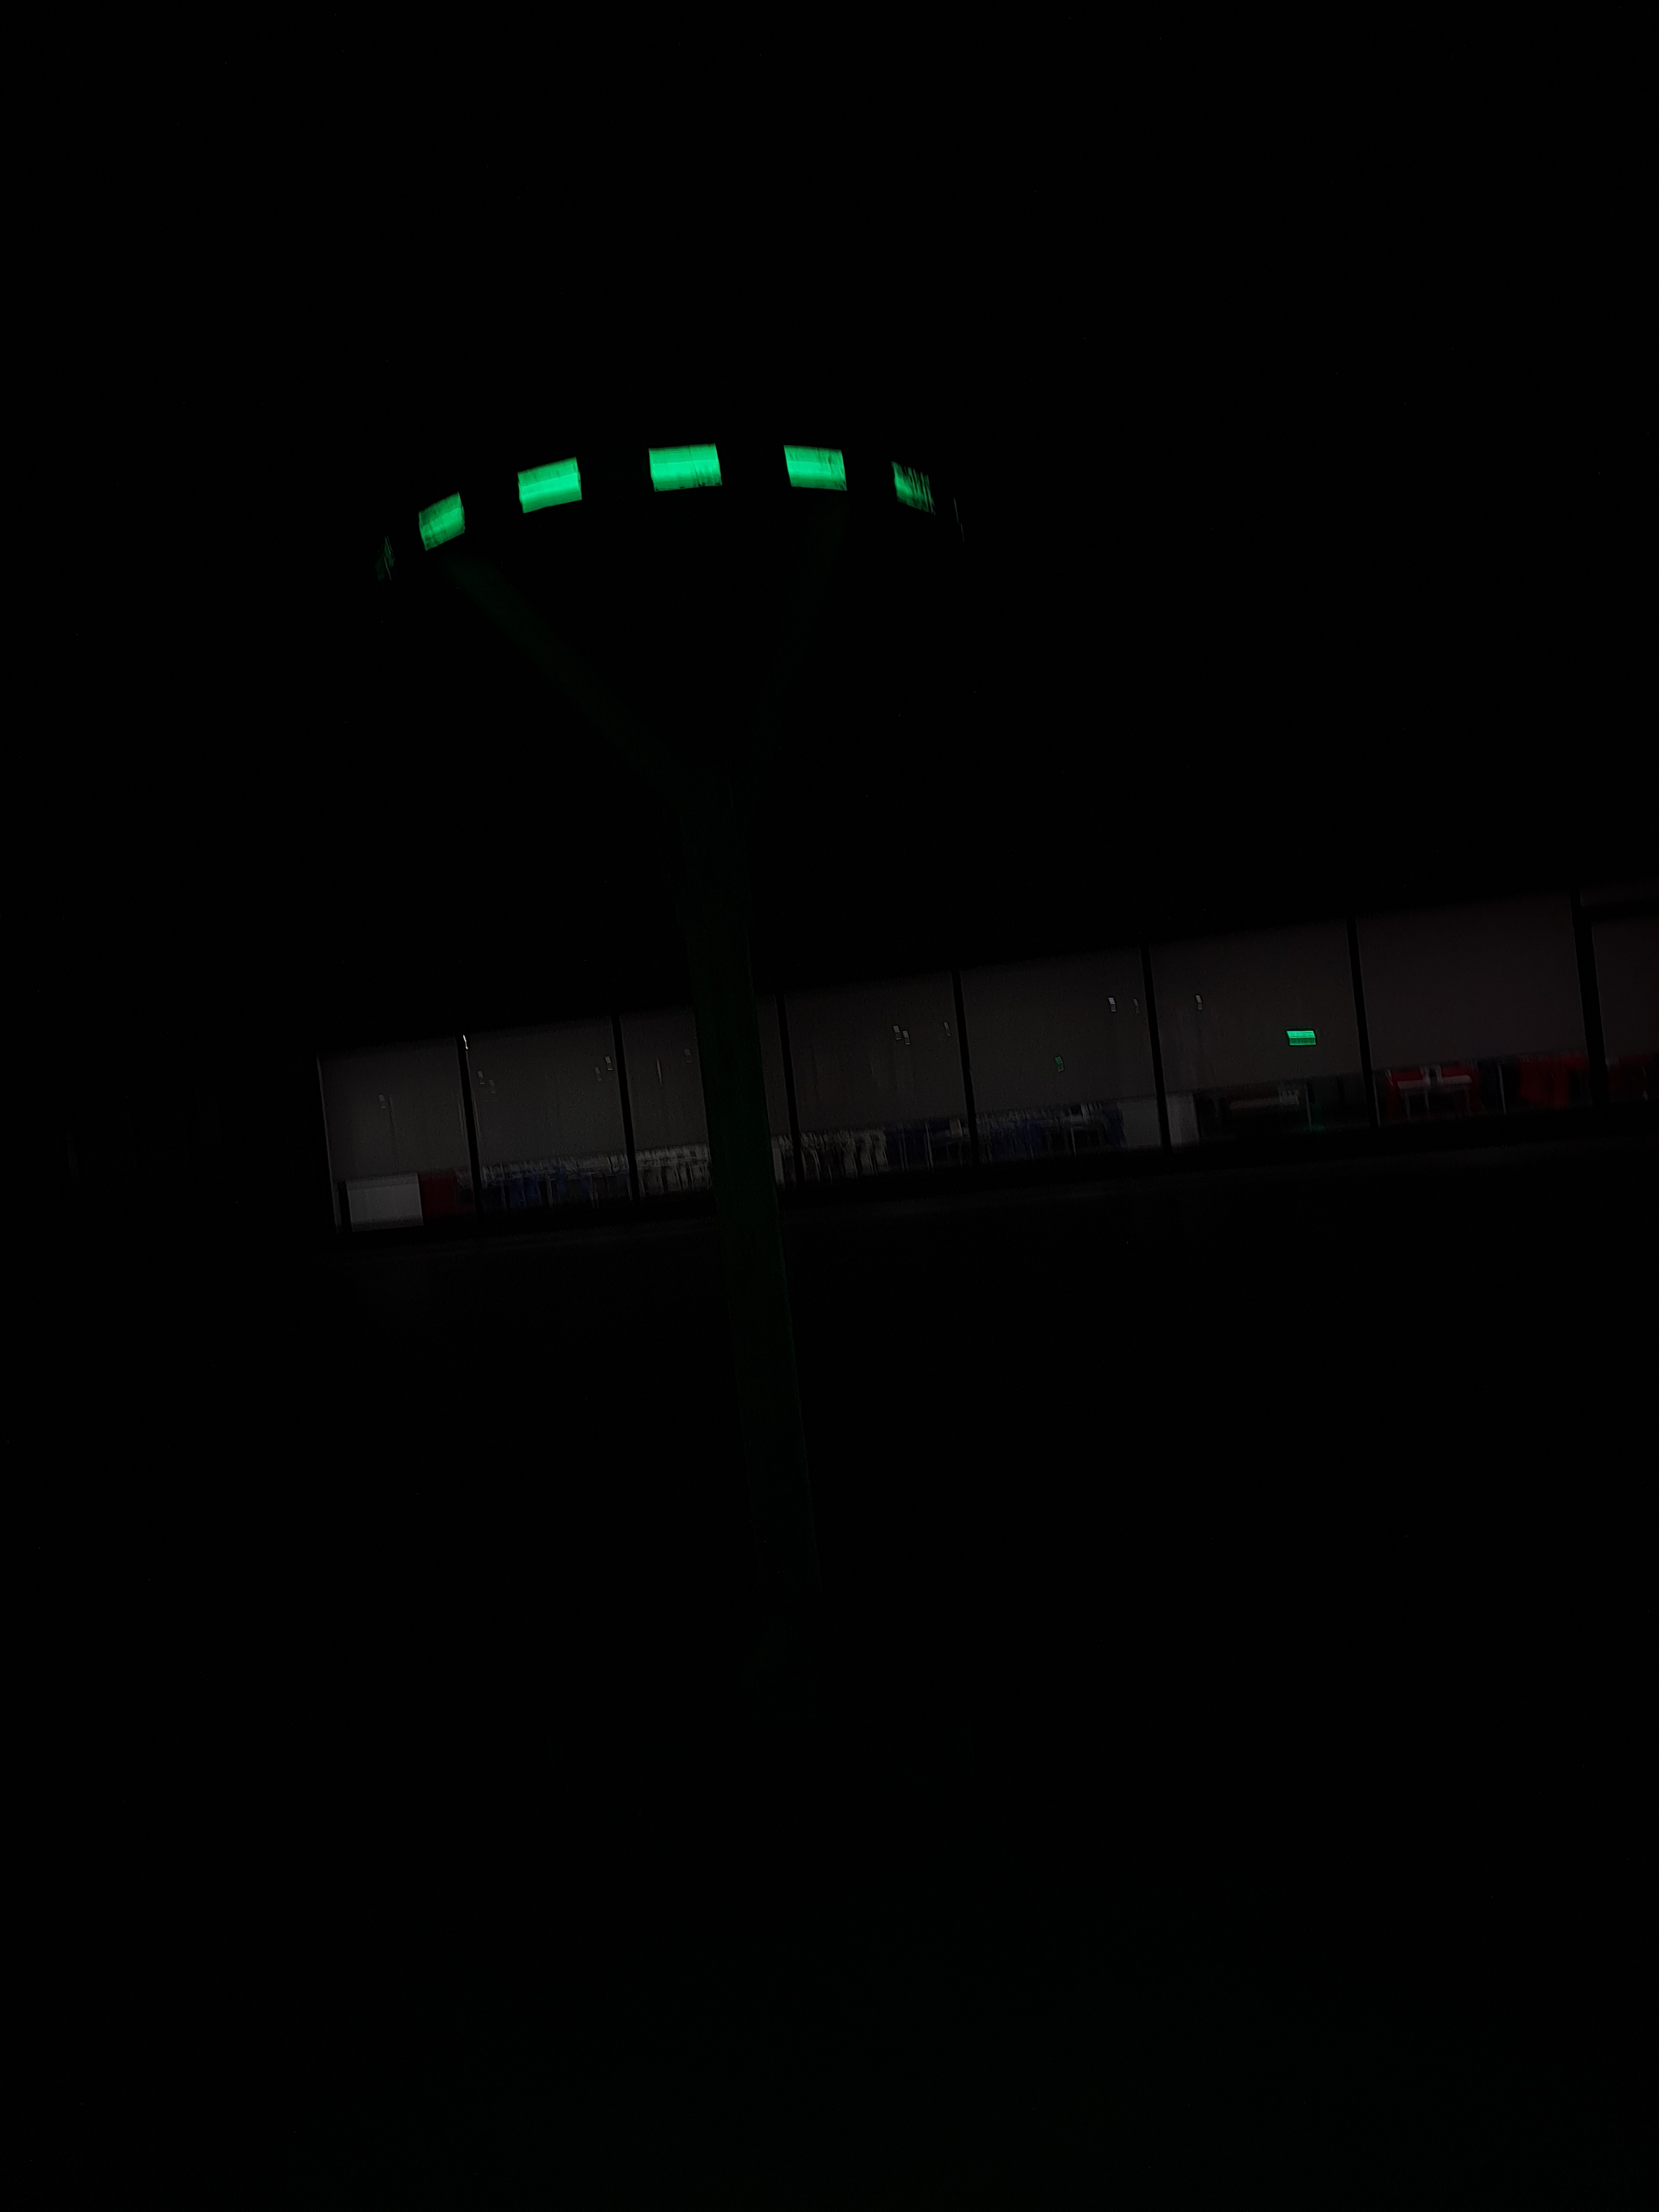hoop: (416, 437, 948, 547)
